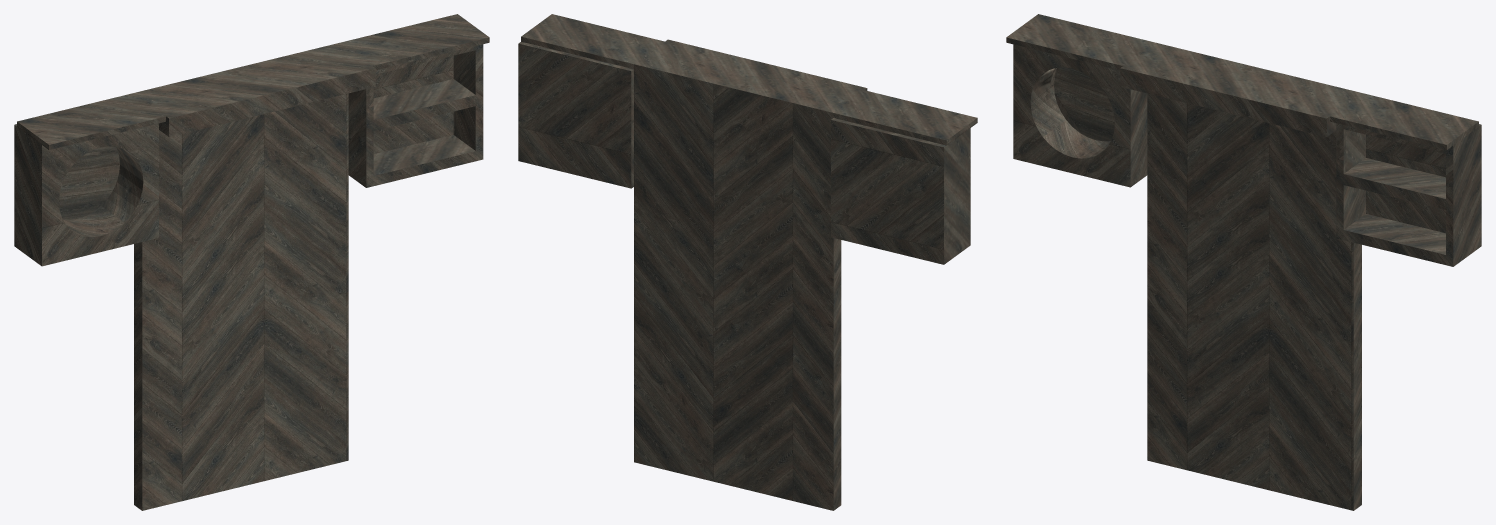
File: aparador.gltf
3 views of the same model, side by side, from view 1: azimuth 30°, elevation 25°; view 2: azimuth 150°, elevation 25°; view 3: azimuth 330°, elevation 25° (orthographic). The views are drawn at different scales.
Parts seen in each view (by area): view 1: Gypsum; view 2: Gypsum; view 3: Gypsum.
Part boxes in pixels (<box>): Gypsum: <box>14,14,489,510</box>; Gypsum: <box>518,14,977,510</box>; Gypsum: <box>1006,14,1481,510</box>.
Bounding box in the file's own units: 5.65 × 5.05 × 0.8387.
1 material, 1 textured.
